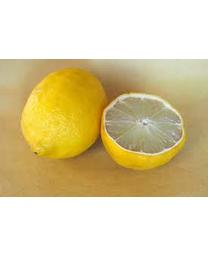lemon: (22, 64, 107, 159), (101, 91, 184, 172)
